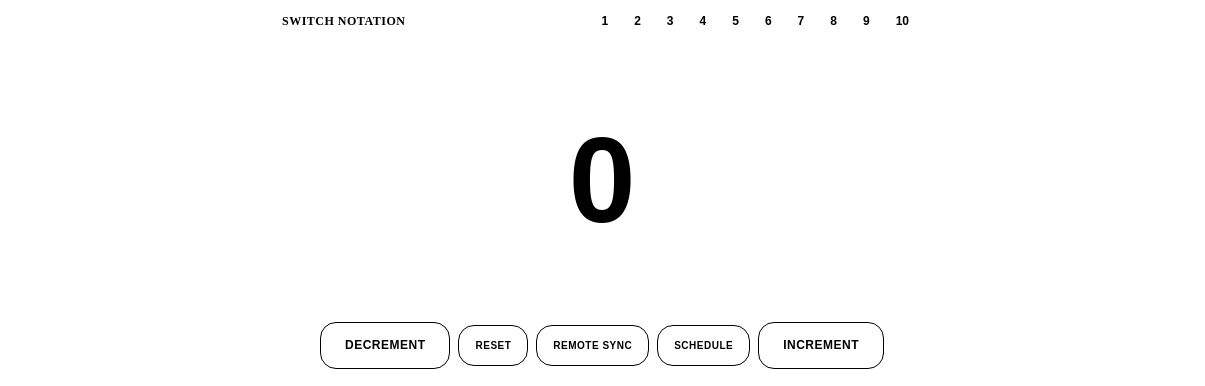
Test case: Counter › should increment value
Step 1. Click the button "Increment" → (821, 346), box [758, 322, 884, 369]
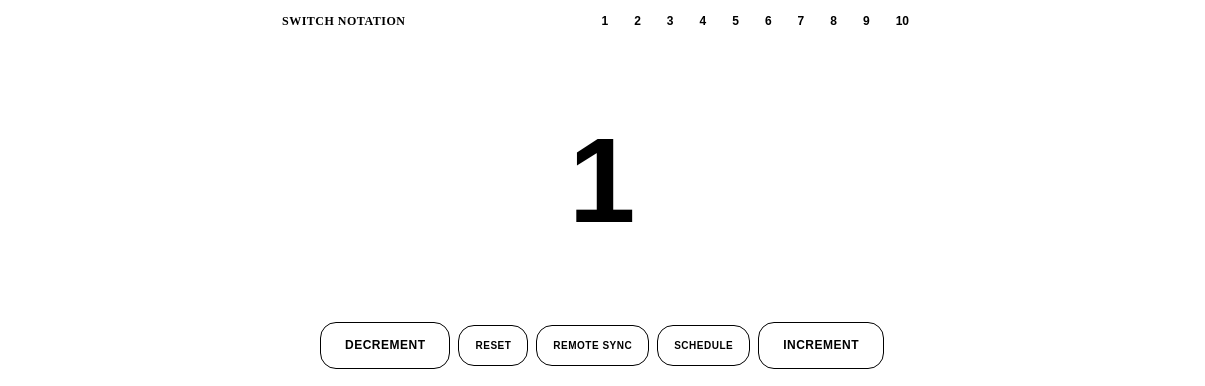
Result: the number field named "counter-value" holds "1" at [16, 94, 1188, 266]
